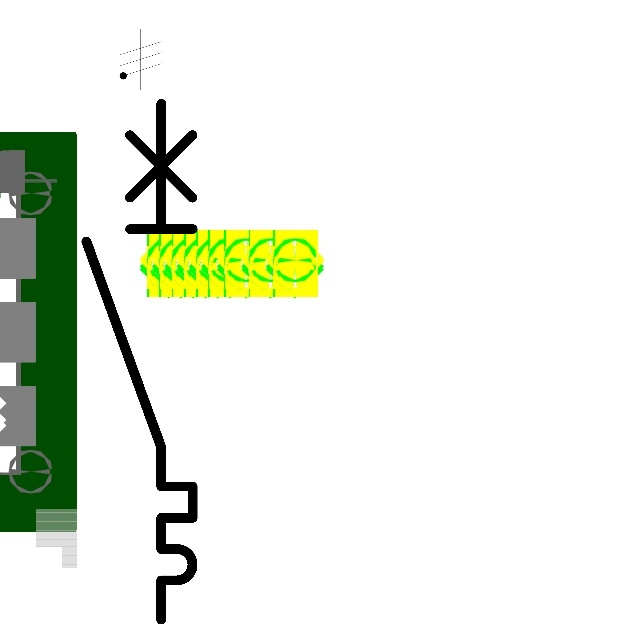interruptor_termomagnetico: (73, 90, 206, 633)
